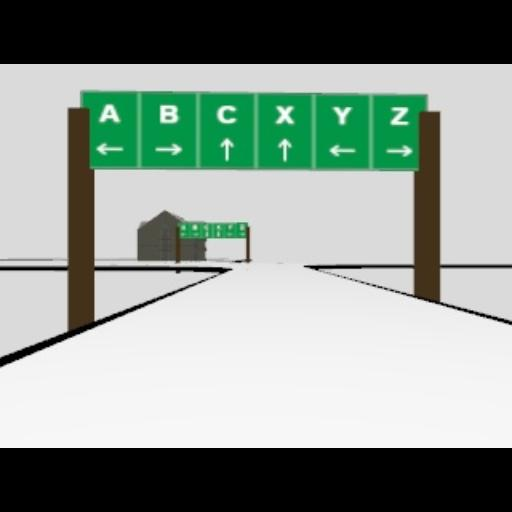A: (98, 102, 120, 124)
B: (158, 102, 180, 124)
C: (216, 102, 236, 124)
Left: (94, 142, 124, 156), (328, 144, 356, 156)
Right: (154, 142, 182, 156), (386, 144, 412, 156)
Straight: (219, 138, 235, 162), (277, 138, 291, 160)
X: (276, 104, 294, 124)
Y: (332, 104, 352, 124)
Z: (388, 106, 408, 124)
